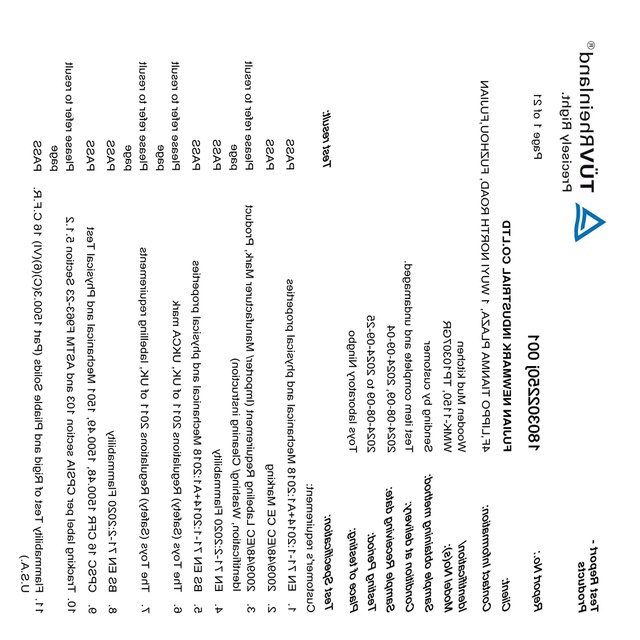tuv_rheinland: (570, 34, 608, 244)
